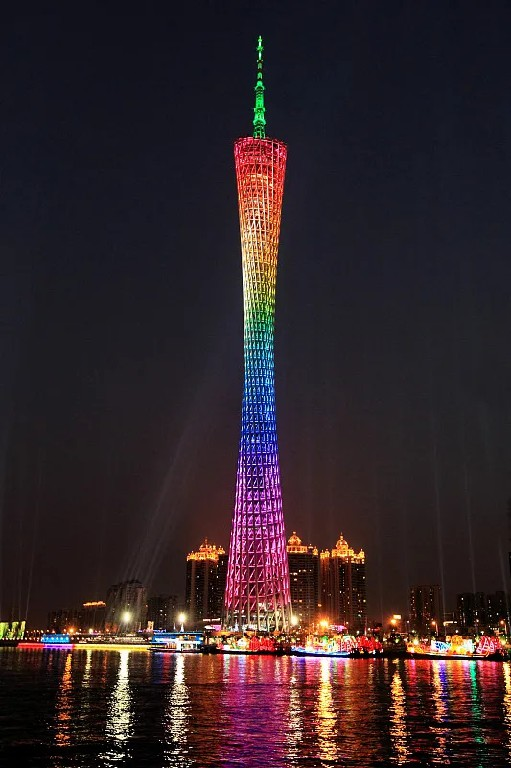Canton: (222, 31, 294, 629)
